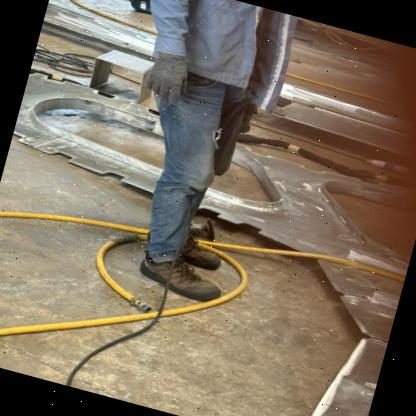bota: (134, 247, 234, 306), (166, 224, 235, 275)
